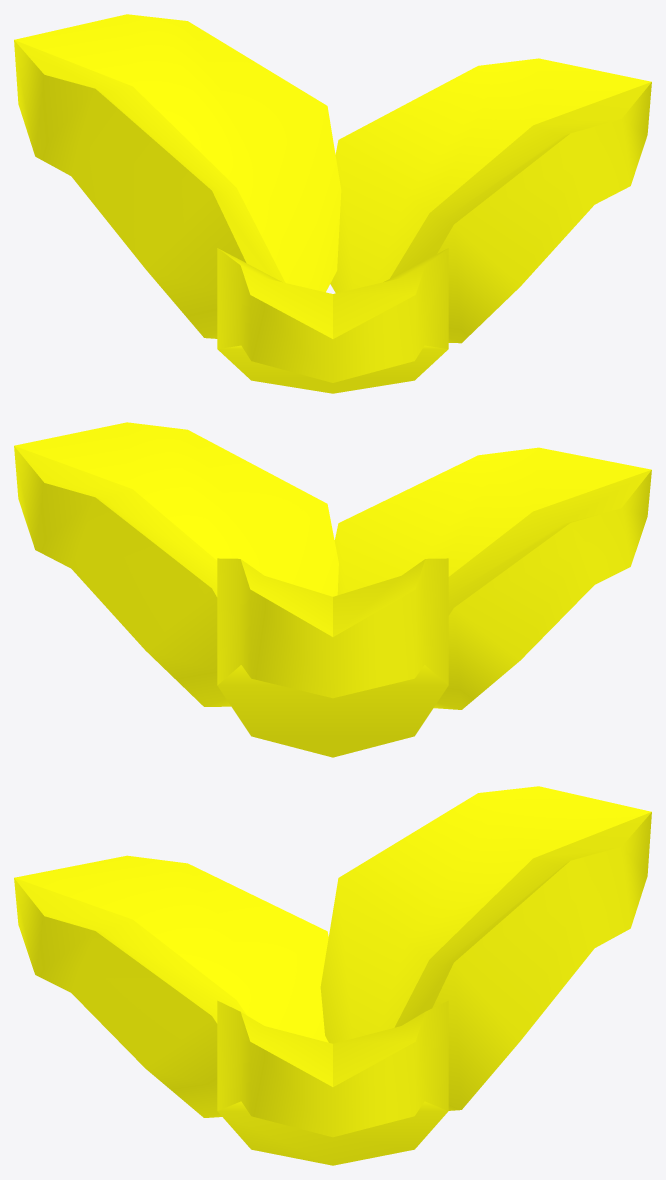
The model's file is 装饰道具_植物_灌木.glb.
3 renders of one model, top to bottom at view 1: azimuth 30°, elevation 25°; view 2: azimuth 150°, elevation 25°; view 3: azimuth 270°, elevation 25°, orthographic.
Visible parts, largest first — view 1: plant; view 2: plant; view 3: plant.
Part boxes in pixels (bbox=[...]): plant: bbox=[14, 14, 651, 393]; plant: bbox=[14, 422, 651, 757]; plant: bbox=[14, 786, 651, 1165].
Bounding box in the file's own units: 0.3964 × 0.1919 × 0.4305.
1 material, 1 textured.
